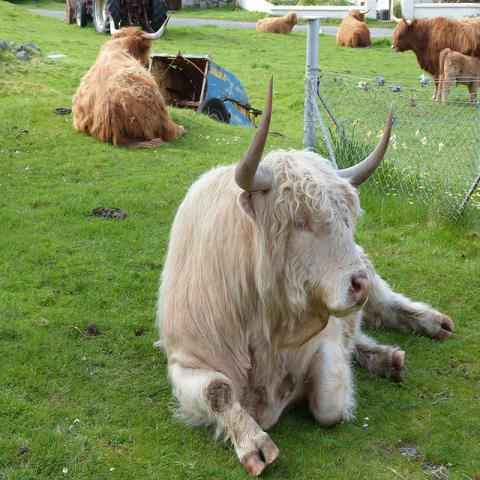truck: (65, 0, 167, 35)
